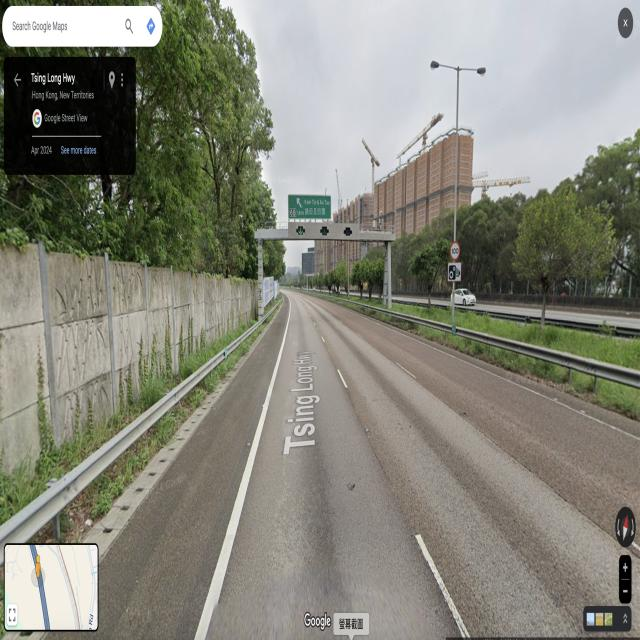Direction-Sign: (289, 195, 331, 218)
Order-Sign: (451, 244, 460, 259)
Warning-Sign: (449, 263, 461, 280)
